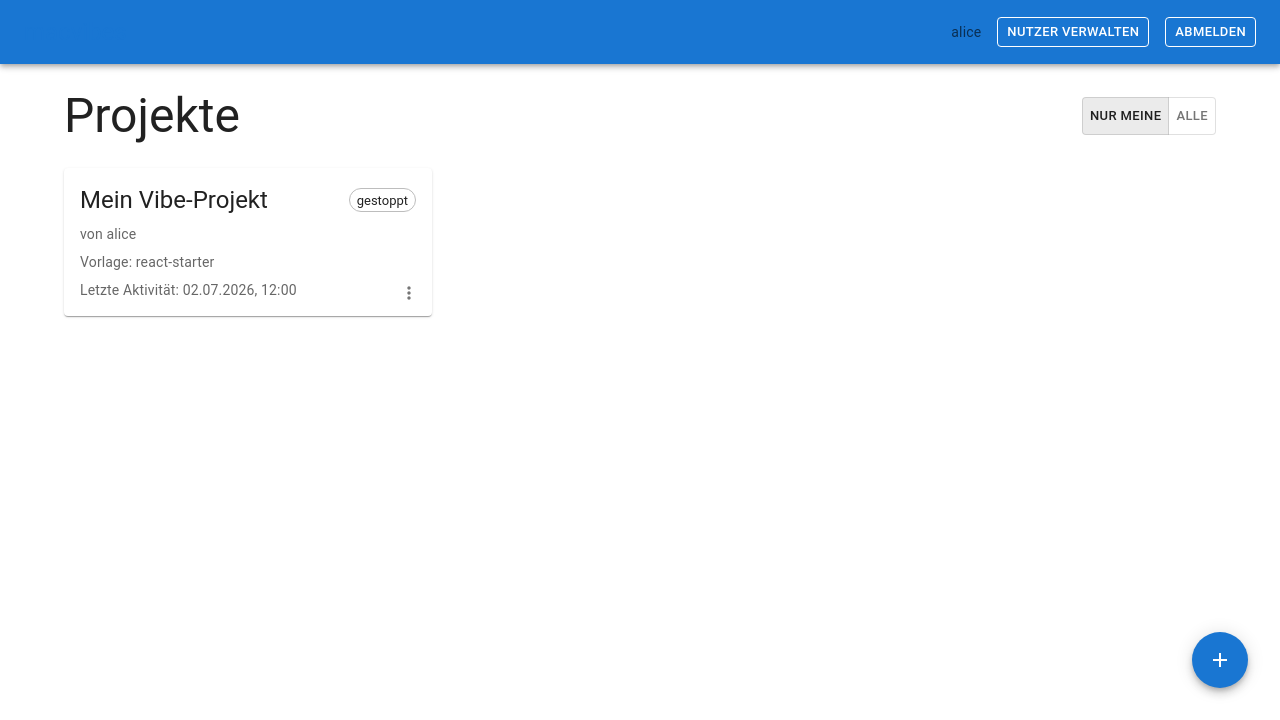
Test: ProjectsPage › Projektmenü (Umbenennen/Löschen) › öffnet über das Menü den Lösch-Bestätigungsdialog
This screenshot has width=1280, height=720.
Expected: the heading "Mein Vibe-Projekt" is shown, top-left (80, 184), bottom-right (268, 216)
What coordinates should you click on to do the following:
click the button with test id "project-menu-p1"
I would click on:
 (409, 293)
Its box is top-left (394, 278), bottom-right (424, 308).
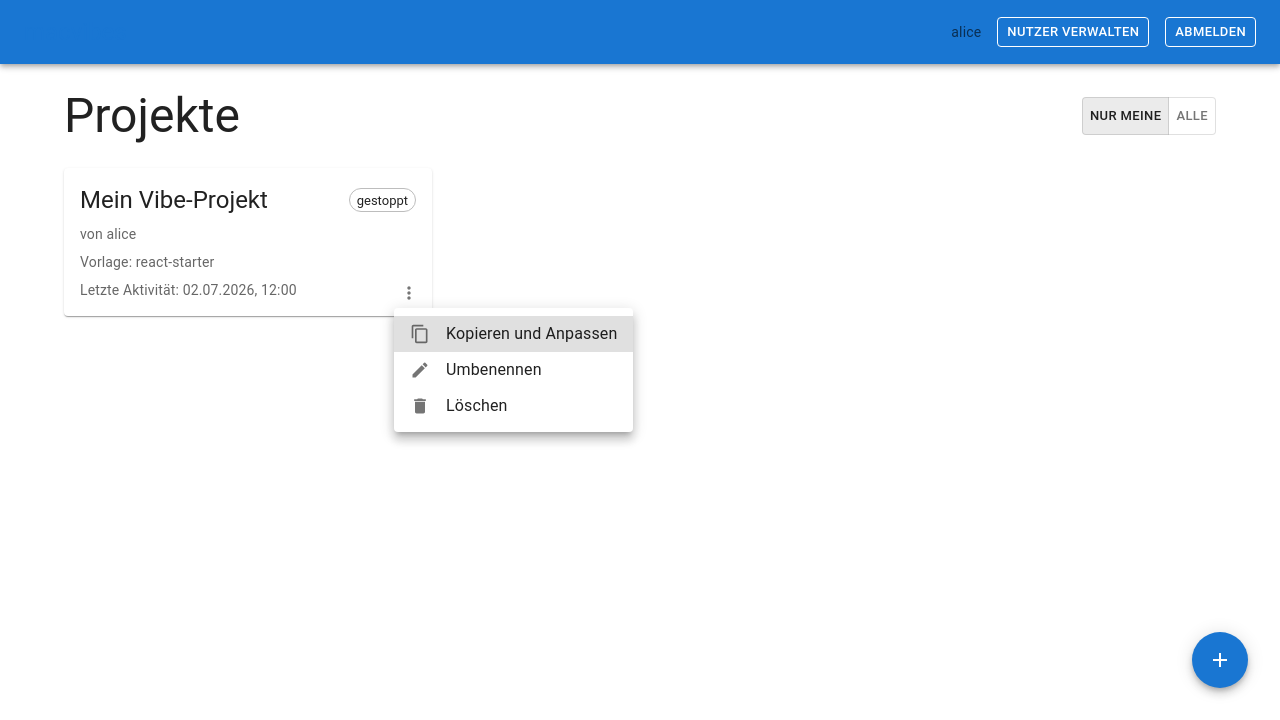
What coordinates should you click on to do the following:
click the menu item with test id "project-delete-p1"
I would click on:
 (459, 406)
Its box is top-left (410, 396), bottom-right (508, 416).
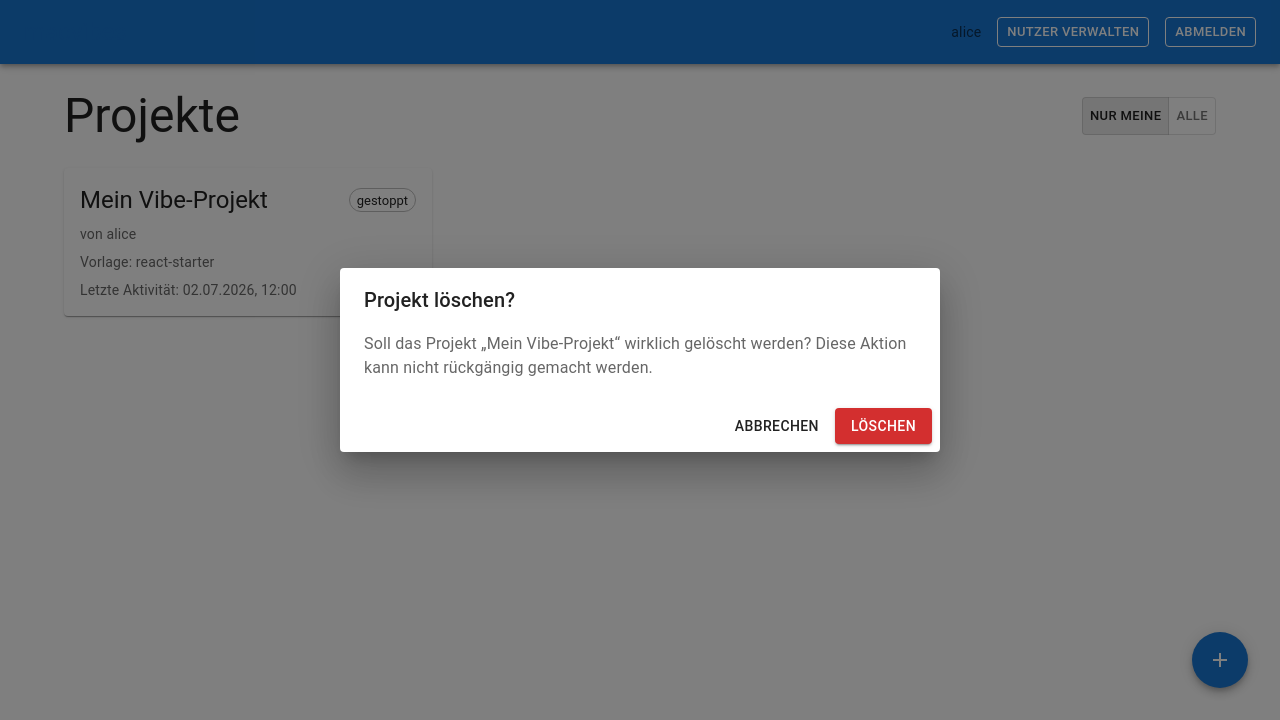
Result: the heading "Projekt löschen?" is shown at top-left (364, 288), bottom-right (515, 312)
